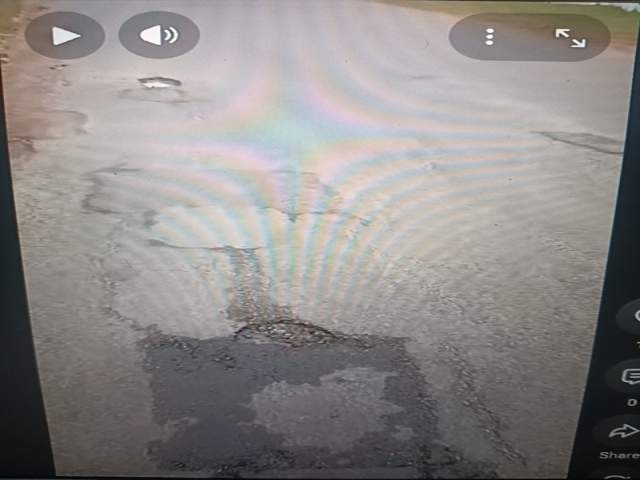pothole: (540, 403, 640, 480)
